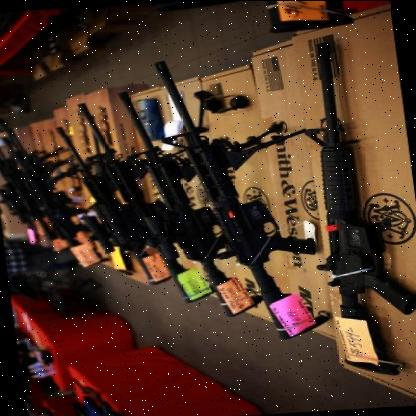rifle: (148, 50, 330, 346), (294, 37, 416, 367)
